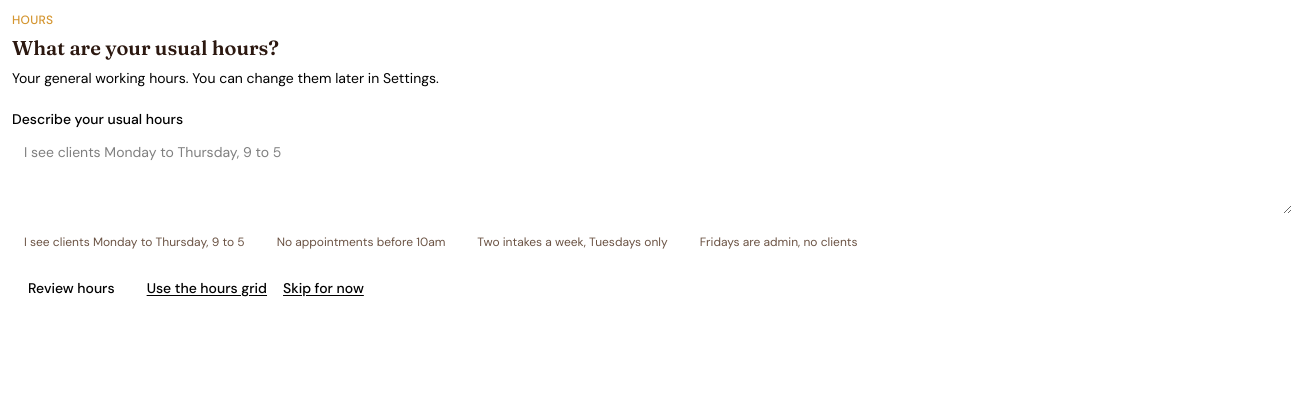
Test: CalendarHoursStep saving › asks to try again when nothing saved
In the text box labelled "Describe your usual hours": coordinates (652, 174) top-left (12, 134), bottom-right (1292, 214), type "Monday to Thursday, 9 to 5"
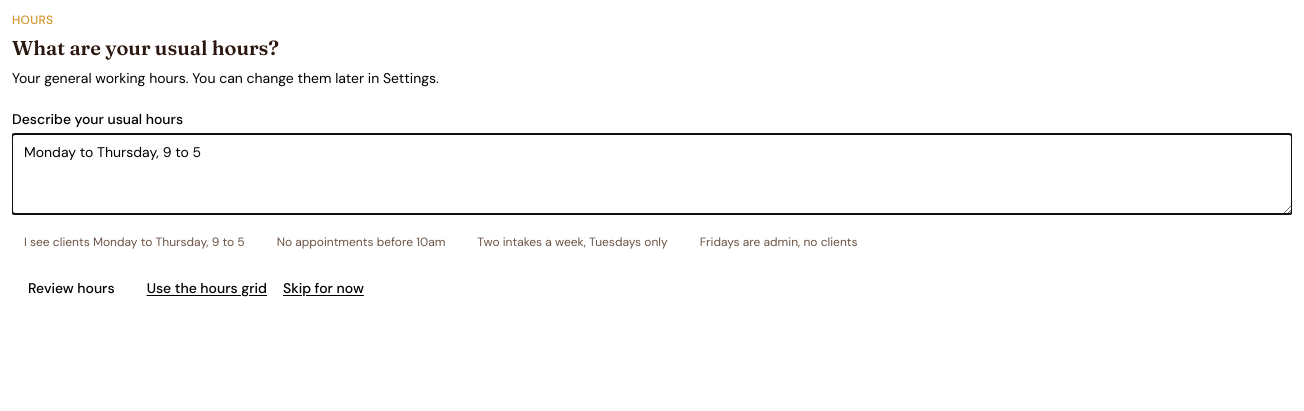
Click the button "Review hours": coordinates (71, 288) top-left (12, 270), bottom-right (131, 306)
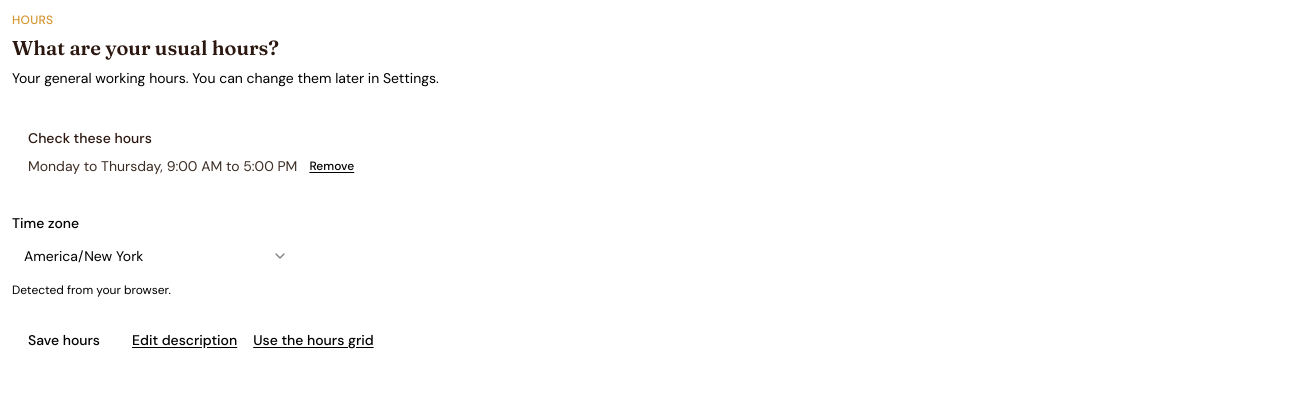
expect the text "Monday to Thursday, 9:00 AM to 5:00 PM" is shown: met, box top-left (28, 156), bottom-right (297, 176)
Click the button "Save hours": coordinates (64, 340) top-left (12, 322), bottom-right (116, 358)
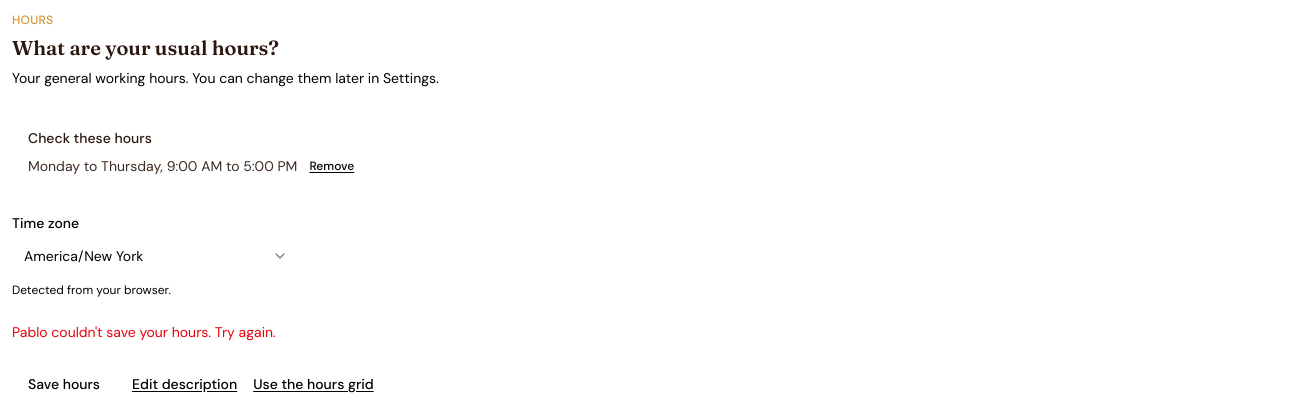
expect the button "Edit description" is enabled: met, box top-left (132, 374), bottom-right (237, 394)
expect the message reads "Pablo couldn't save your hours. Try again.": met, box top-left (12, 323), bottom-right (276, 341)
